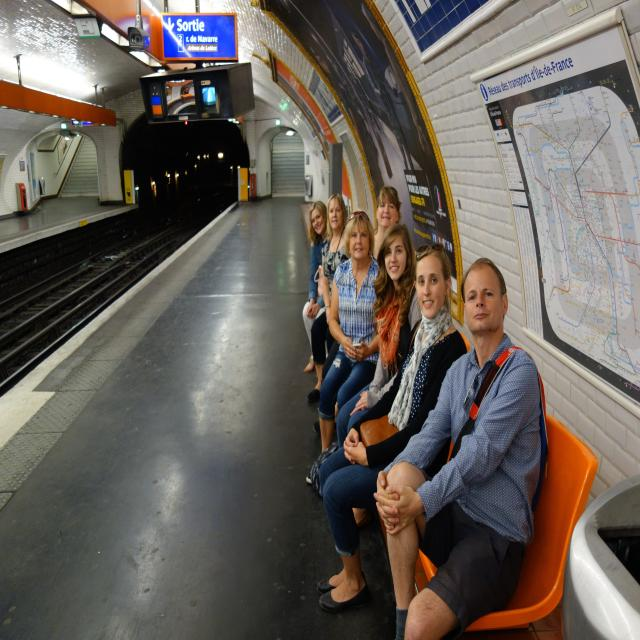body: (372, 258, 552, 640), (315, 239, 469, 617), (313, 186, 401, 434), (304, 210, 382, 486), (336, 223, 421, 449), (306, 192, 348, 406), (302, 200, 331, 374)
